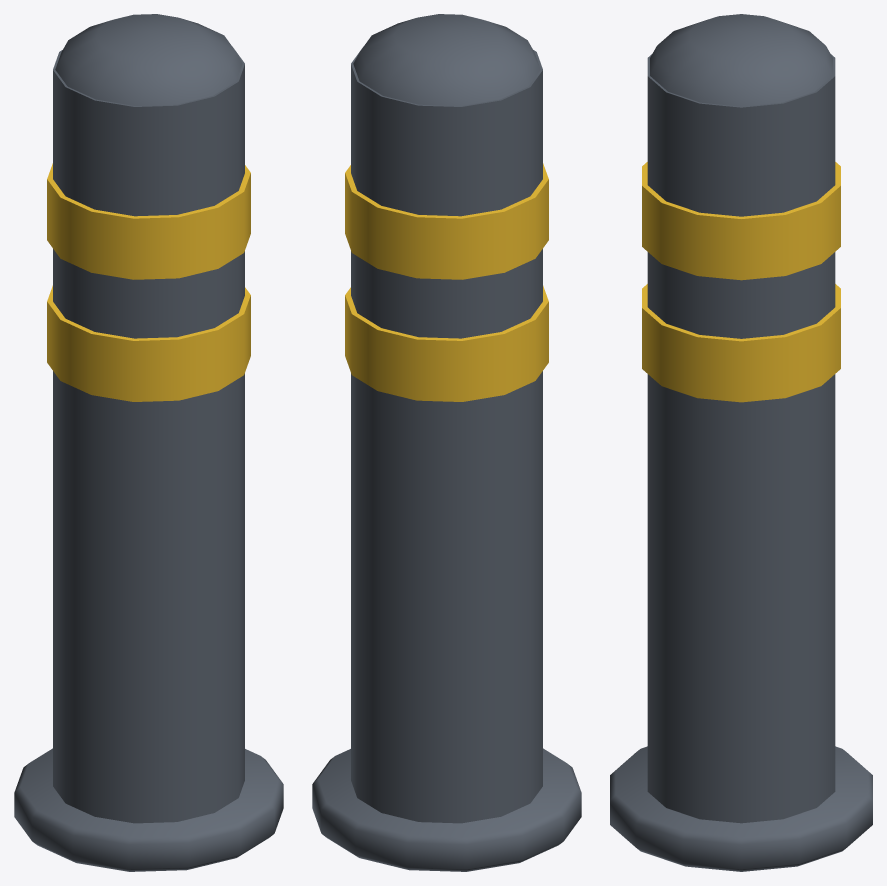
Rendered from bollard.glb.
3 renders of one model, left to right at view 1: azimuth 30°, elevation 25°; view 2: azimuth 150°, elevation 25°; view 3: azimuth 270°, elevation 25°, orthographic.
Parts seen in each view (by area): view 1: bollard; view 2: bollard; view 3: bollard.
Part boxes in pixels (x1=…): bollard: x1=14, y1=14, x2=283, y2=871; bollard: x1=312, y1=14, x2=581, y2=871; bollard: x1=610, y1=14, x2=872, y2=871.
Size of the model in its own units: 0.28 by 0.9 by 0.2729.
